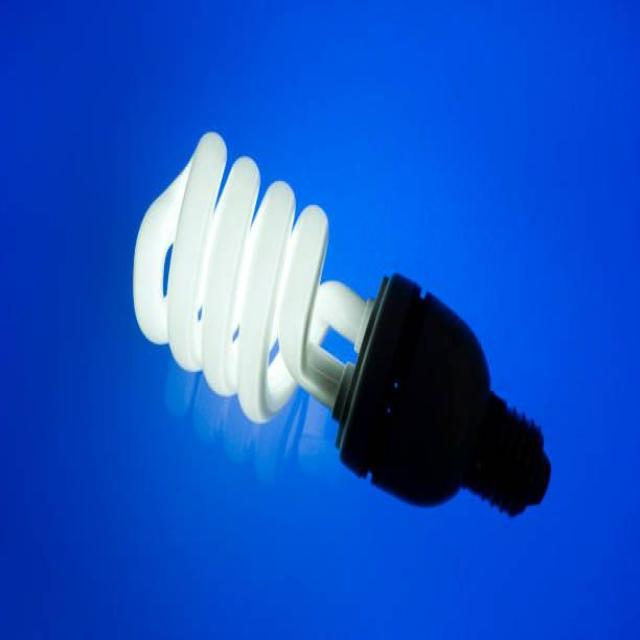electronic: (132, 129, 551, 517), (294, 270, 551, 517)
